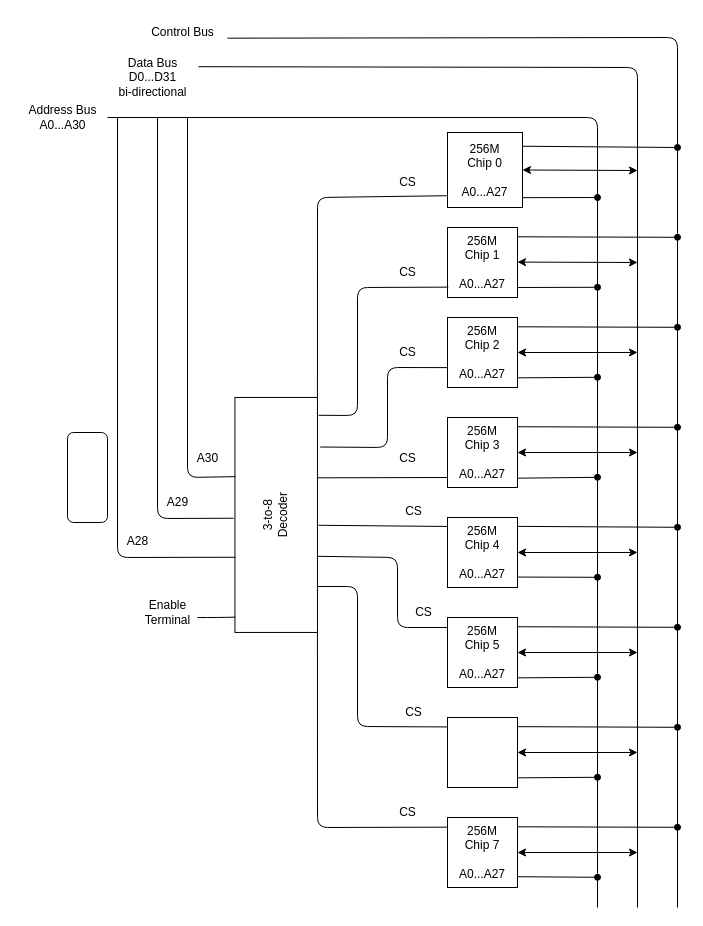
The diagram is 703 pixels wide and 926 high, and some of its shapes have lost their labels. Each missing label, with the centre of its shape:
"256M Chip 6 A0...A27" belongs at [482,752].
"inputs" belongs at [87,477].
